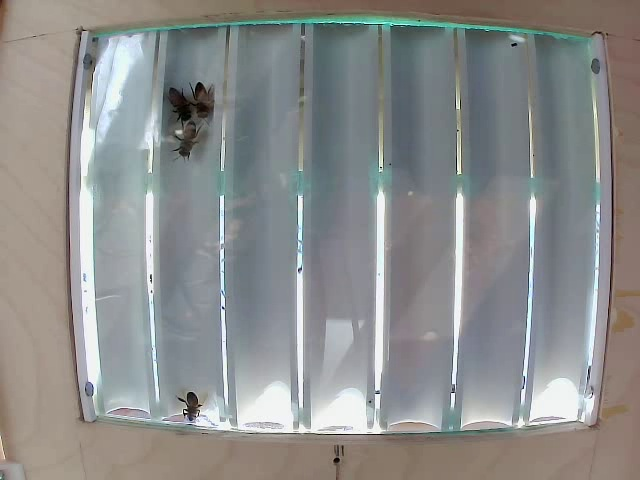bee: (199, 81, 232, 121), (174, 122, 203, 161), (169, 384, 201, 419), (156, 92, 188, 121)
